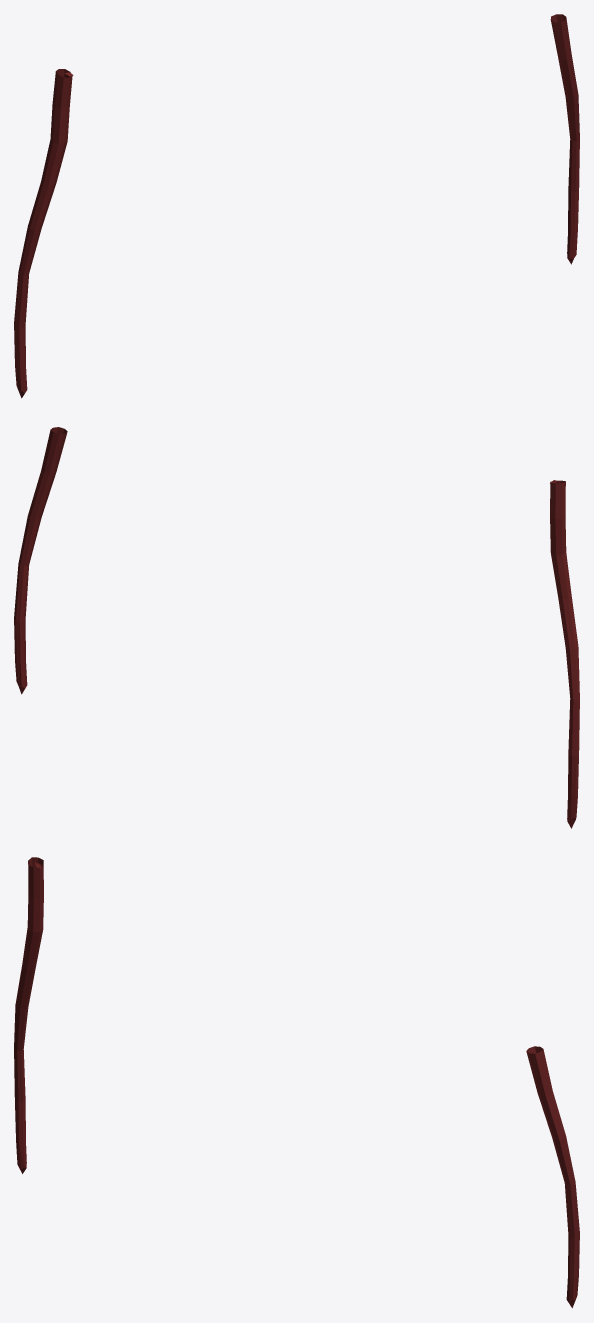
Rendered from Tronco Tibioperoneo.FBX.
The picture shows the model from 3 angles, top to bottom: view 1: azimuth 30°, elevation 25°; view 2: azimuth 150°, elevation 25°; view 3: azimuth 330°, elevation 25°; orthographic projection.
Parts seen in each view (by area): view 1: CS_Arterie; view 2: CS_Arterie; view 3: CS_Arterie.
Boxes of the visible parts, box(x1,y1,x2,y2) form: CS_Arterie: box(14, 14, 579, 398); CS_Arterie: box(14, 427, 579, 828); CS_Arterie: box(14, 857, 579, 1308).
Size of the model in its own units: 981 by 552 by 63.8.
